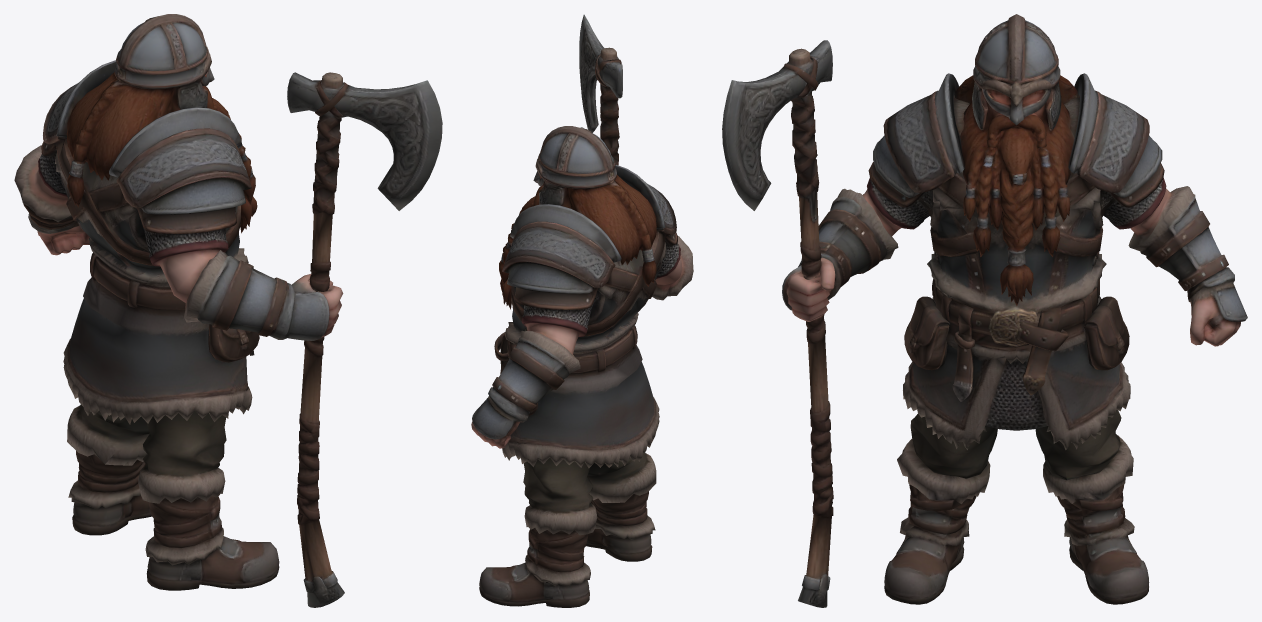
The picture shows the model from 3 angles, left to right: view 1: azimuth 30°, elevation 25°; view 2: azimuth 150°, elevation 25°; view 3: azimuth 270°, elevation 25°; orthographic projection. The views are drawn at different scales.
Parts seen in each view (by area): view 1: tripo_node_cf55d702-3a2b-49fe-8593-a75f29307f23; view 2: tripo_node_cf55d702-3a2b-49fe-8593-a75f29307f23; view 3: tripo_node_cf55d702-3a2b-49fe-8593-a75f29307f23.
Boxes of the visible parts, box(x1,y1,x2,y2) form: tripo_node_cf55d702-3a2b-49fe-8593-a75f29307f23: box(14, 14, 442, 607); tripo_node_cf55d702-3a2b-49fe-8593-a75f29307f23: box(471, 14, 693, 607); tripo_node_cf55d702-3a2b-49fe-8593-a75f29307f23: box(722, 14, 1247, 607).
Bounding box in the file's own units: 0.4517 × 0.9995 × 0.8481.
1 material, 1 textured.
